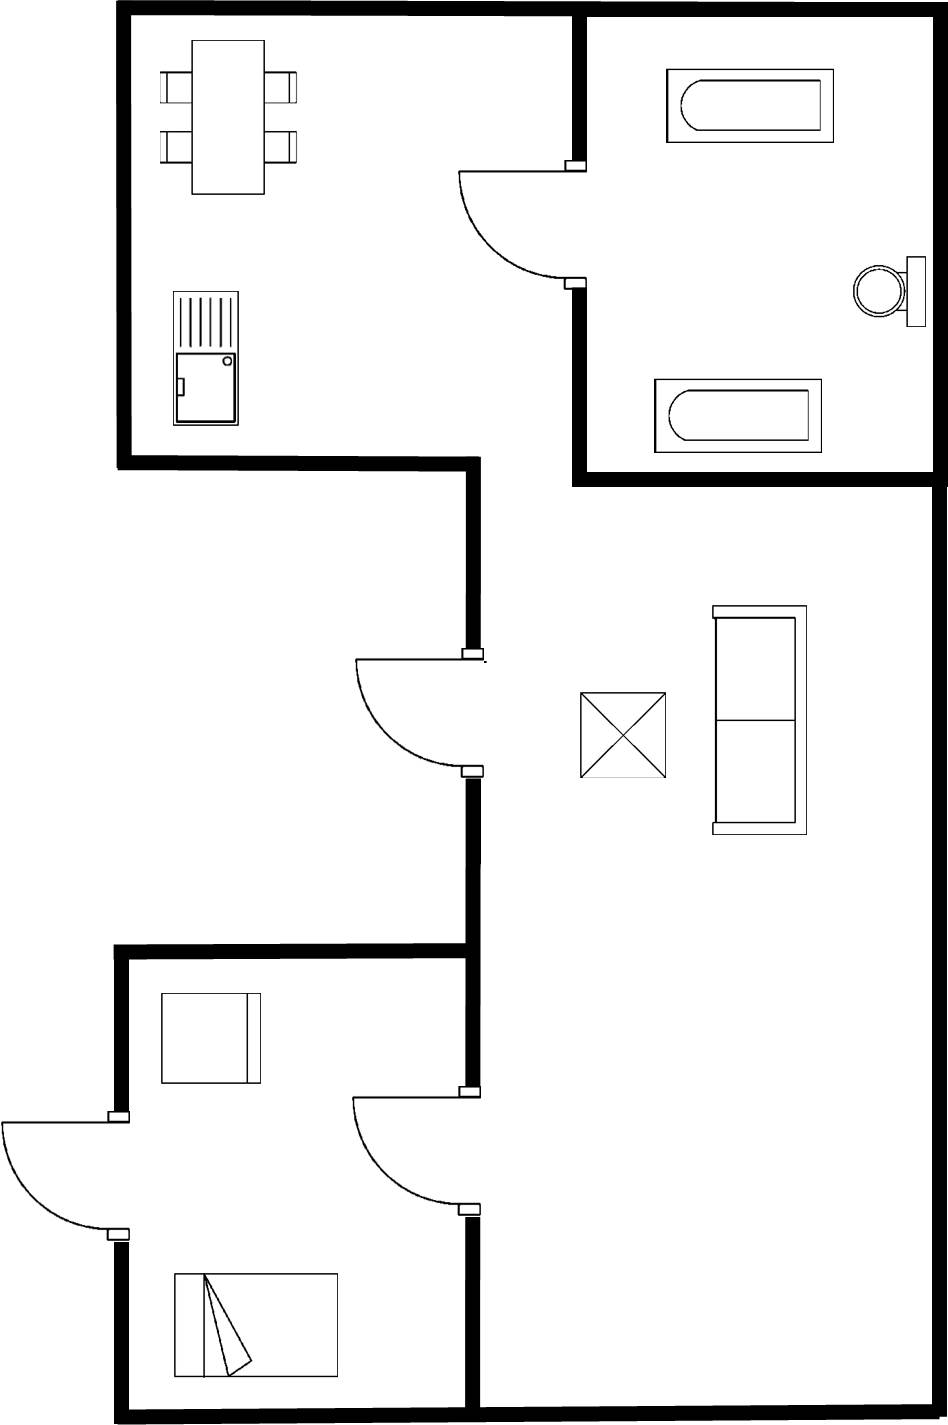bed: (166, 1264, 346, 1384)
coffee_table: (573, 685, 674, 785)
dining_table: (152, 33, 307, 206)
large_sink: (845, 249, 930, 330)
large_sofa: (705, 598, 814, 844)
sink: (166, 280, 248, 431)
small_sofa: (155, 987, 268, 1092)
tub: (660, 64, 843, 149), (646, 373, 828, 459)
